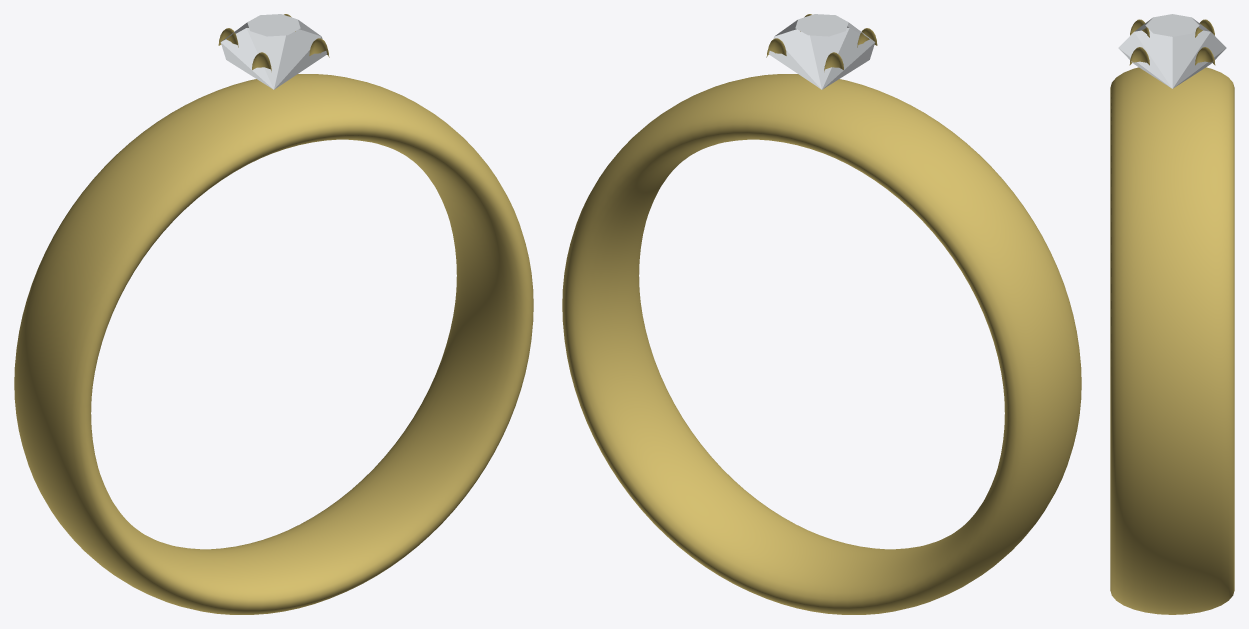
File: dummy_ring.glb
3 renders of one model, left to right at view 1: azimuth 30°, elevation 25°; view 2: azimuth 150°, elevation 25°; view 3: azimuth 270°, elevation 25°, orthographic.
Parts seen in each view (by area): view 1: geometry_0; view 2: geometry_0; view 3: geometry_0.
Part boxes in pixels (bbox=[...]): geometry_0: bbox=[14, 14, 533, 614]; geometry_0: bbox=[562, 14, 1081, 614]; geometry_0: bbox=[1110, 14, 1234, 614].
Bounding box in the file's own units: 2.44 × 2.75 × 0.55.
